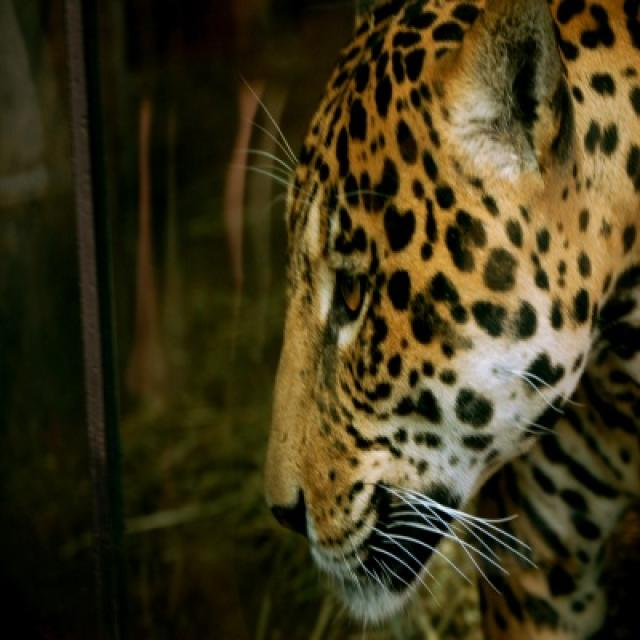Jaguar: (262, 0, 638, 638)
